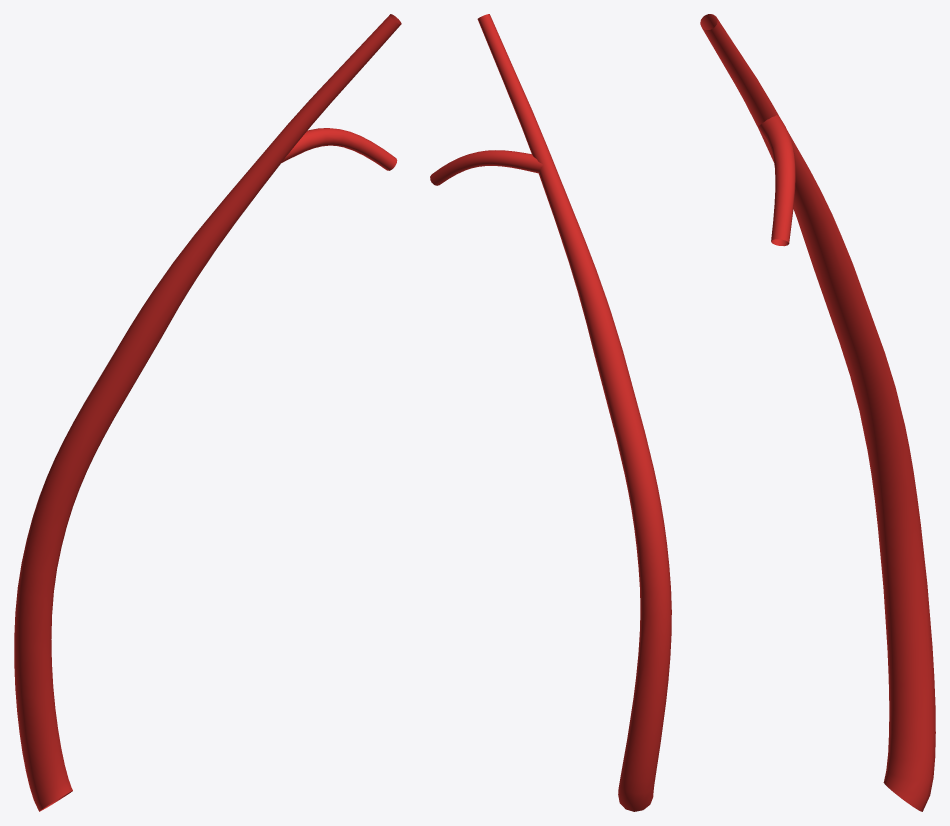
Rendered from circulatorio-inferior-thyroid-artery-r.glb.
The picture shows the model from 3 angles, left to right: view 1: azimuth 30°, elevation 25°; view 2: azimuth 150°, elevation 25°; view 3: azimuth 270°, elevation 25°; orthographic projection. The views are drawn at different scales.
Visible parts, largest first — view 1: Inferior thyroid artery.r; view 2: Inferior thyroid artery.r; view 3: Inferior thyroid artery.r.
Boxes of the visible parts, left/top/right/bottom form: Inferior thyroid artery.r: left=14, top=14, right=401, bottom=811; Inferior thyroid artery.r: left=430, top=14, right=671, bottom=811; Inferior thyroid artery.r: left=700, top=14, right=935, bottom=811.
Size of the model in its own units: 0.0147 by 0.0341 by 0.00772.
